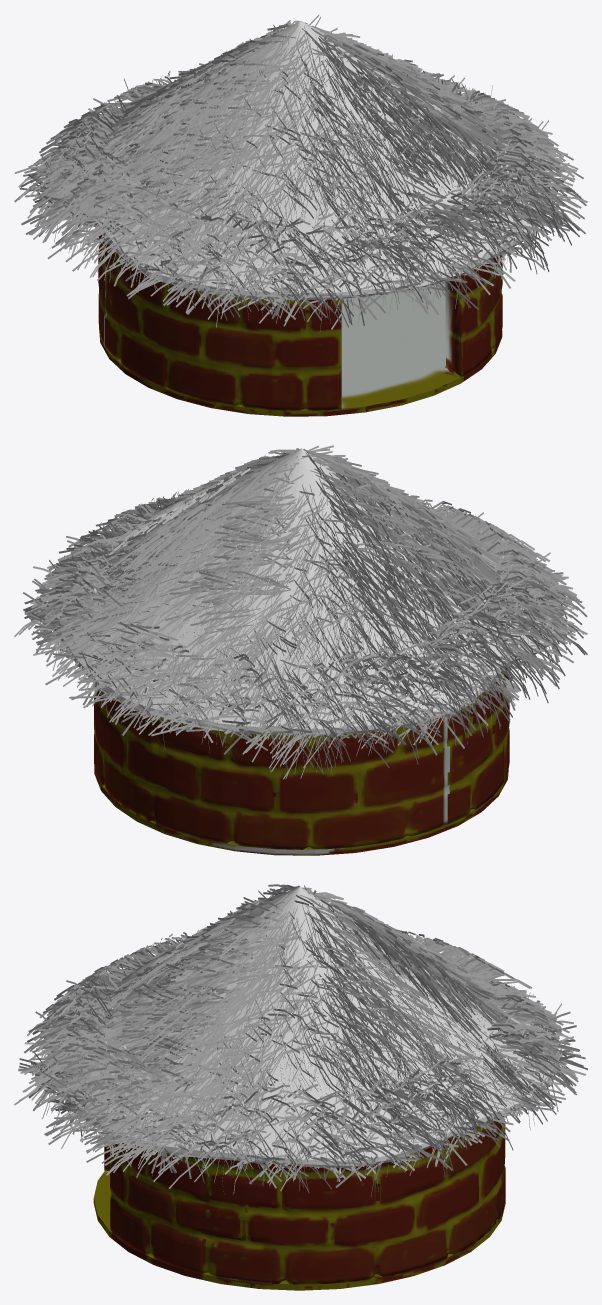
The model's file is Hut1.fbx.
The picture shows the model from 3 angles, top to bottom: view 1: azimuth 30°, elevation 25°; view 2: azimuth 150°, elevation 25°; view 3: azimuth 270°, elevation 25°; orthographic projection. The views are drawn at different scales.
Parts seen in each view (by area): view 1: Mesh, BézierCircle, Cone; view 2: Mesh, BézierCircle, Cone; view 3: Mesh, BézierCircle, Cone.
Boxes of the visible parts, bbox=[...] form: Mesh: bbox=[14, 14, 587, 333]; BézierCircle: bbox=[98, 235, 502, 416]; Cone: bbox=[52, 20, 546, 300]; Mesh: bbox=[14, 445, 587, 779]; BézierCircle: bbox=[94, 667, 509, 855]; Cone: bbox=[60, 448, 556, 735]; Mesh: bbox=[14, 884, 587, 1196]; BézierCircle: bbox=[93, 1116, 505, 1290]; Cone: bbox=[51, 887, 550, 1168].
Bounding box in the file's own units: 282 × 170 × 279.
